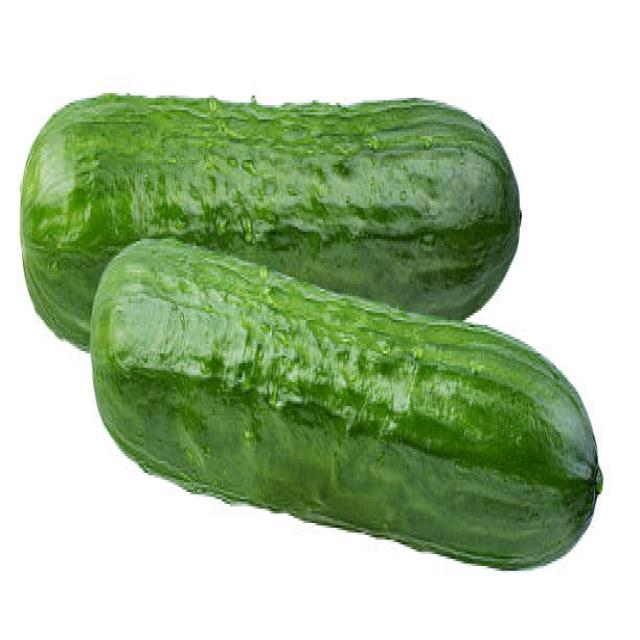cucumber: (91, 238, 598, 569), (20, 92, 522, 350)
